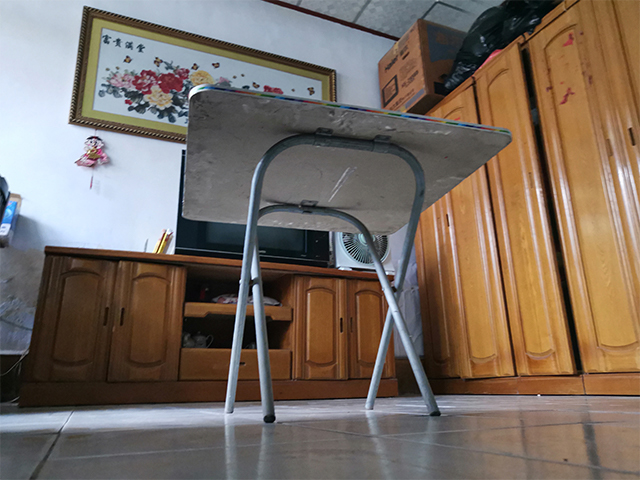cabinet: (414, 1, 640, 397), (15, 242, 399, 409)
table: (178, 82, 515, 423)
